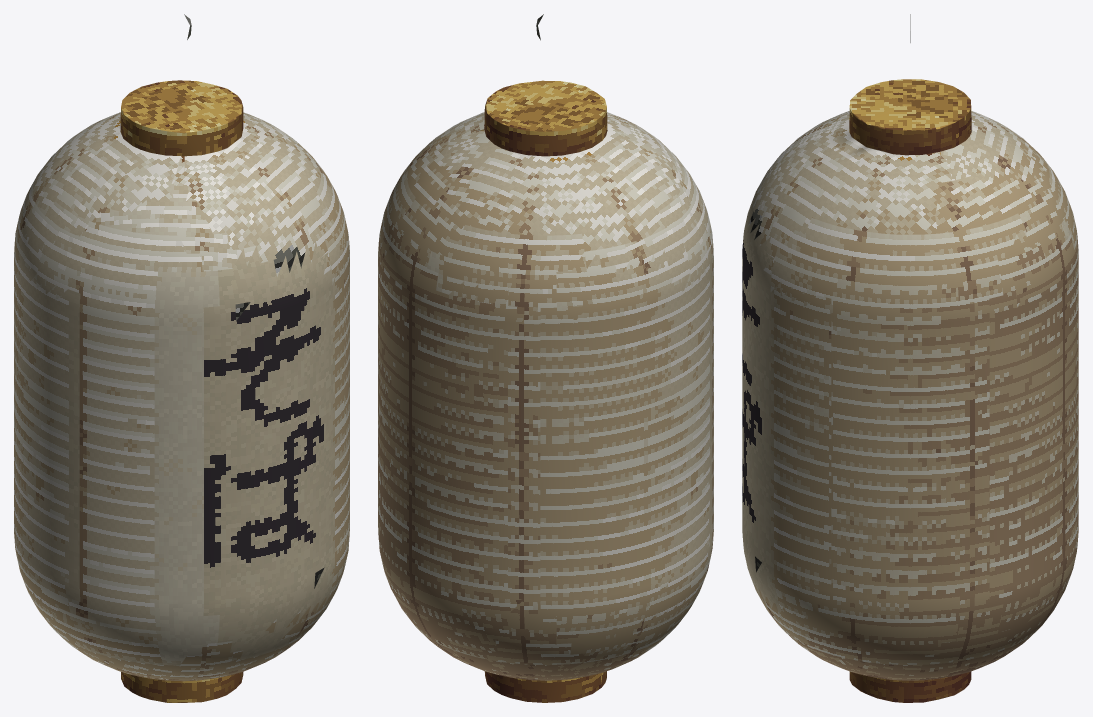
The model's file is paperlantern.glb.
3 views of the same model, side by side, from view 1: azimuth 30°, elevation 25°; view 2: azimuth 150°, elevation 25°; view 3: azimuth 270°, elevation 25° (orthographic).
Parts seen in each view (by area): view 1: lantern_paper; view 2: lantern_paper; view 3: lantern_paper.
Part boxes in pixels (x1,y1,x2,y2): lantern_paper: (14, 14, 349, 702); lantern_paper: (378, 14, 713, 702); lantern_paper: (742, 14, 1078, 702).
Bounding box in the file's own units: 0.4306 × 0.9375 × 0.4306.
Materials: 1 (1 with a texture image).
